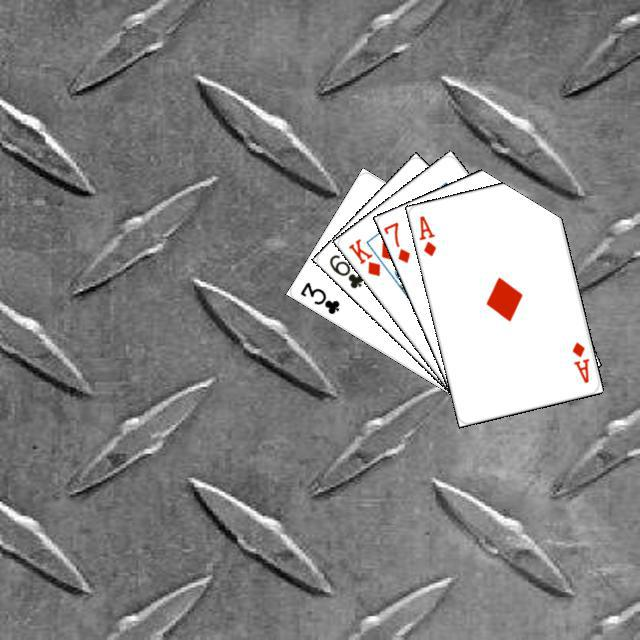3c: (295, 277, 341, 316)
6c: (324, 249, 365, 290)
7d: (380, 217, 412, 265)
Ad: (414, 210, 438, 258), (567, 337, 591, 384)
Kd: (343, 233, 382, 278)
